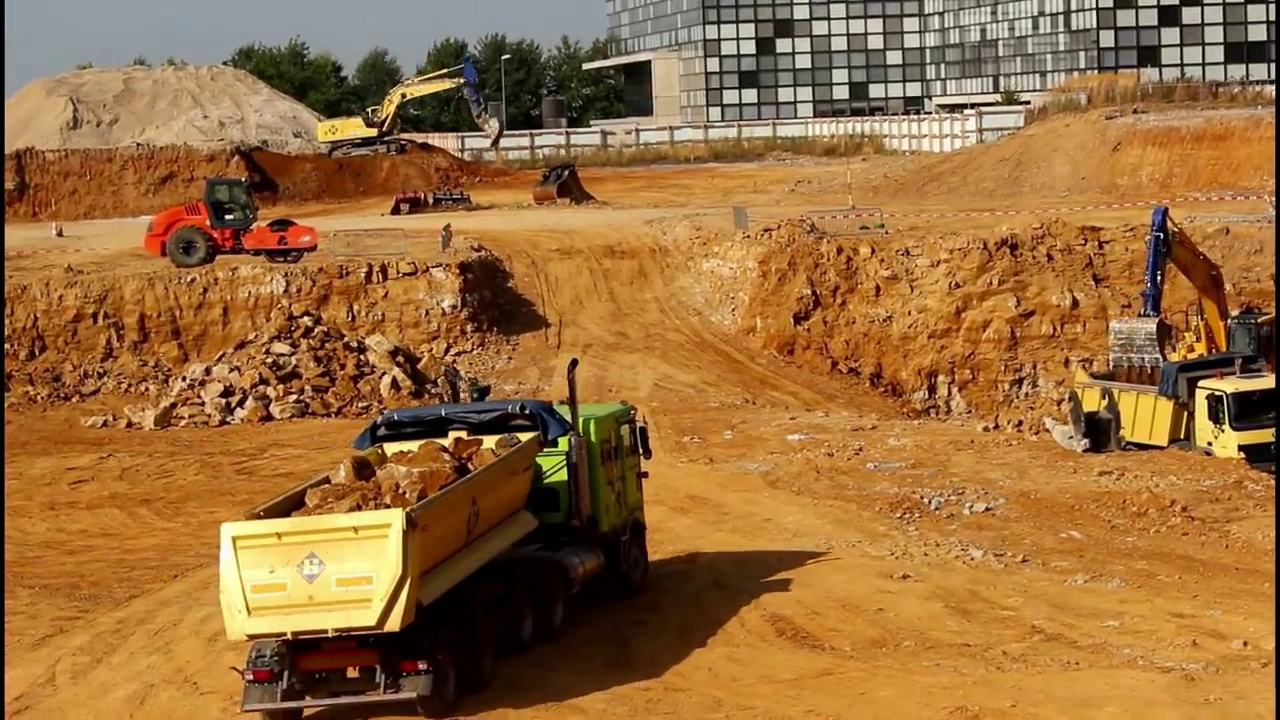compactor: (141, 178, 319, 269)
excavator: (1105, 199, 1280, 433), (315, 61, 506, 164)
truck: (216, 357, 661, 720), (1071, 365, 1280, 493)
